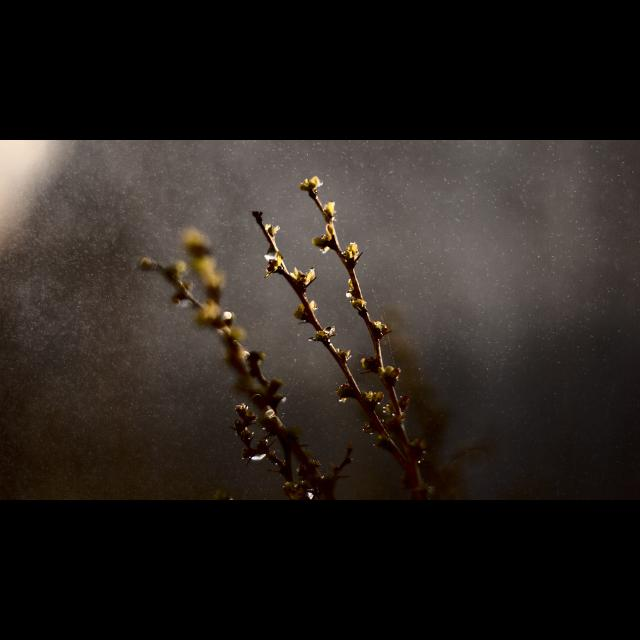Flower: (138, 233, 354, 499), (264, 176, 436, 499)
